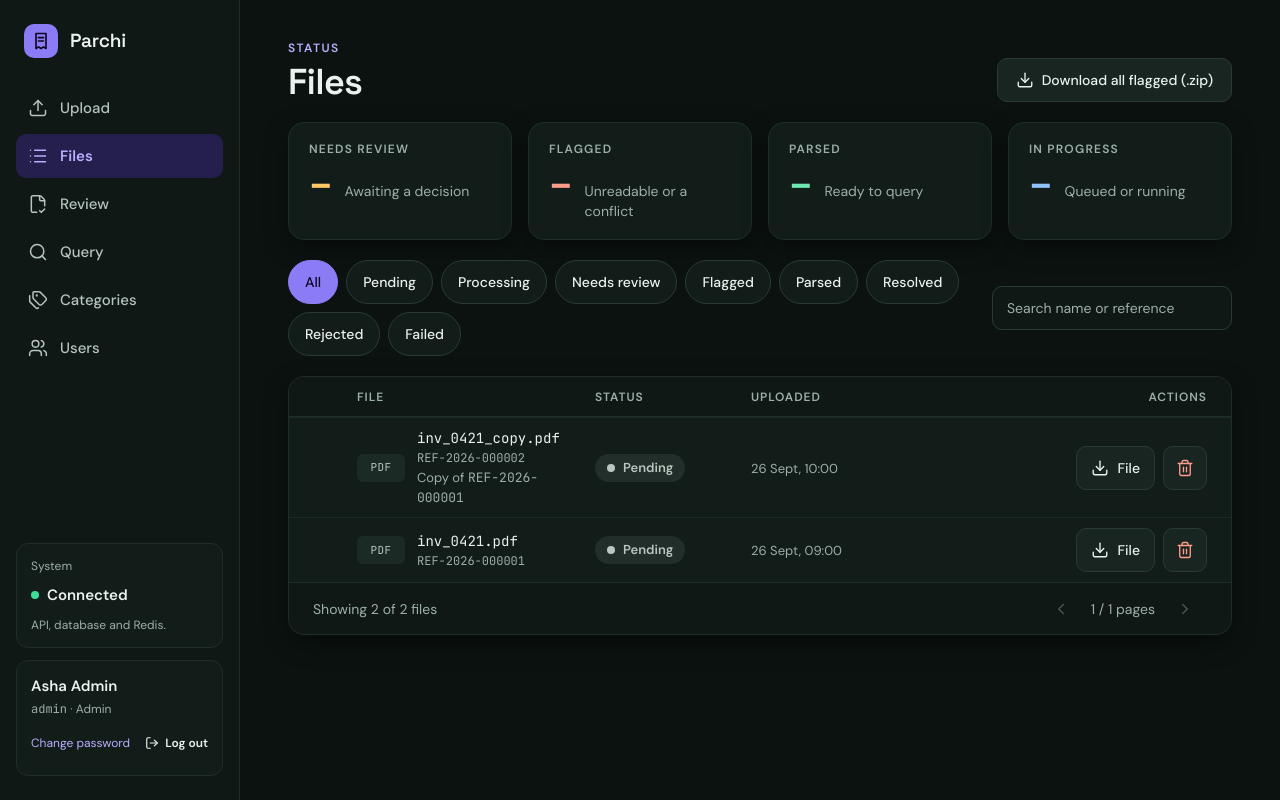
Scenario: deleting a file › asks first, starting on Cancel, and can be cancelled
Click the button named "Delete inv_0421.pdf" at [1185, 550], box [1163,528,1207,572]
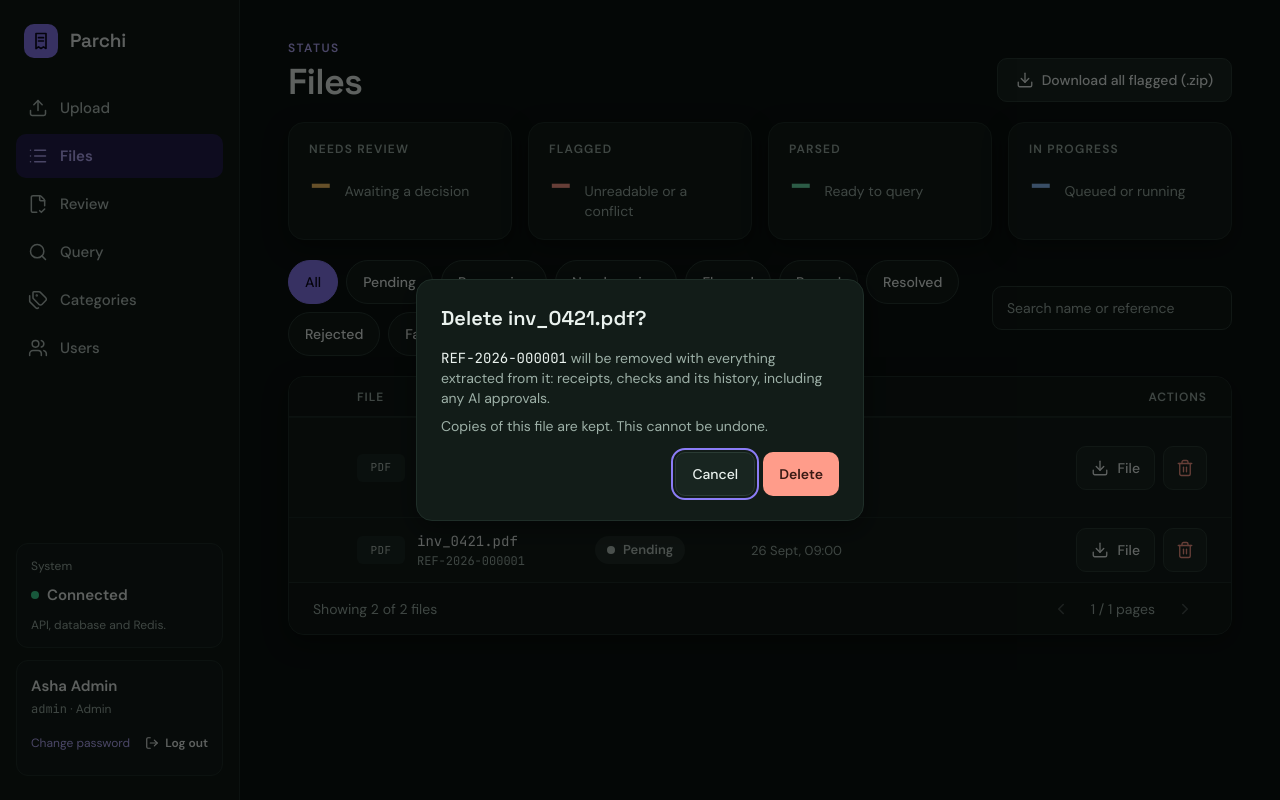
Expected: the dialog "Delete inv_0421.pdf?" shows "REF-2026-000001", [441,349,567,367]
Expected: the button "Cancel" is shown
Click the button "Cancel" at [715, 474], box [675,452,755,496]
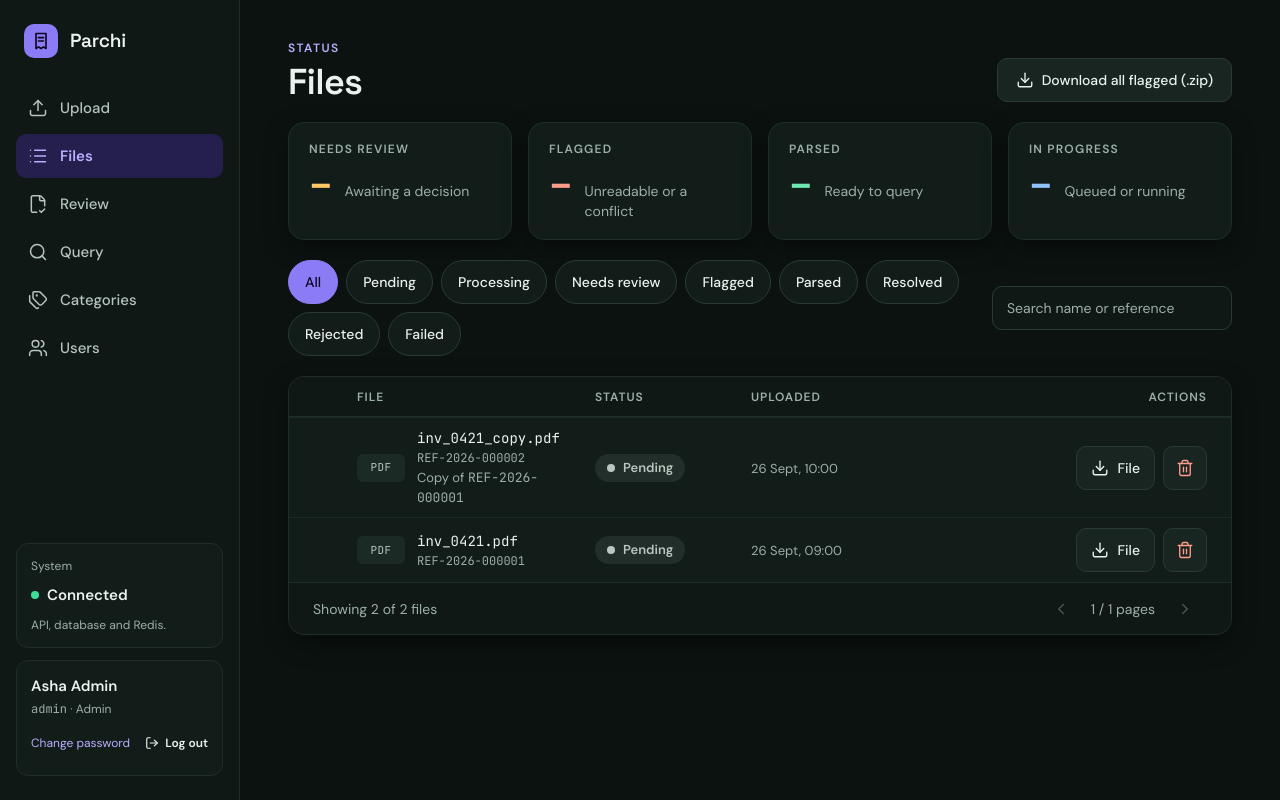
Expected: the dialog is gone
